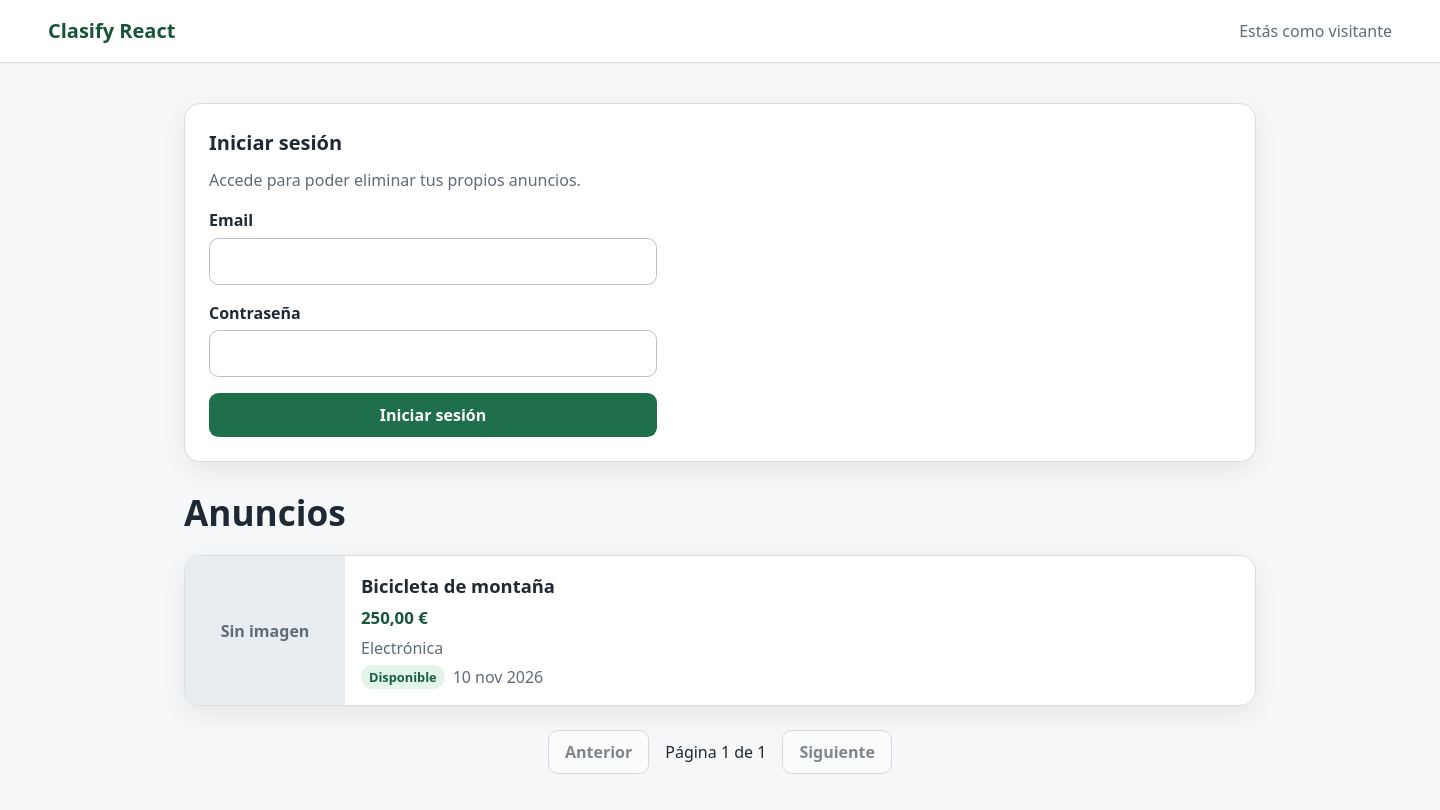
sesión del frontend React › cierra sesión y elimina el token
Check: the heading "Bicicleta de montaña" is shown, box [361,573,555,598]
In the field labelled "Email": point(433, 261) [209,238,657,285], type "ana@example.com"
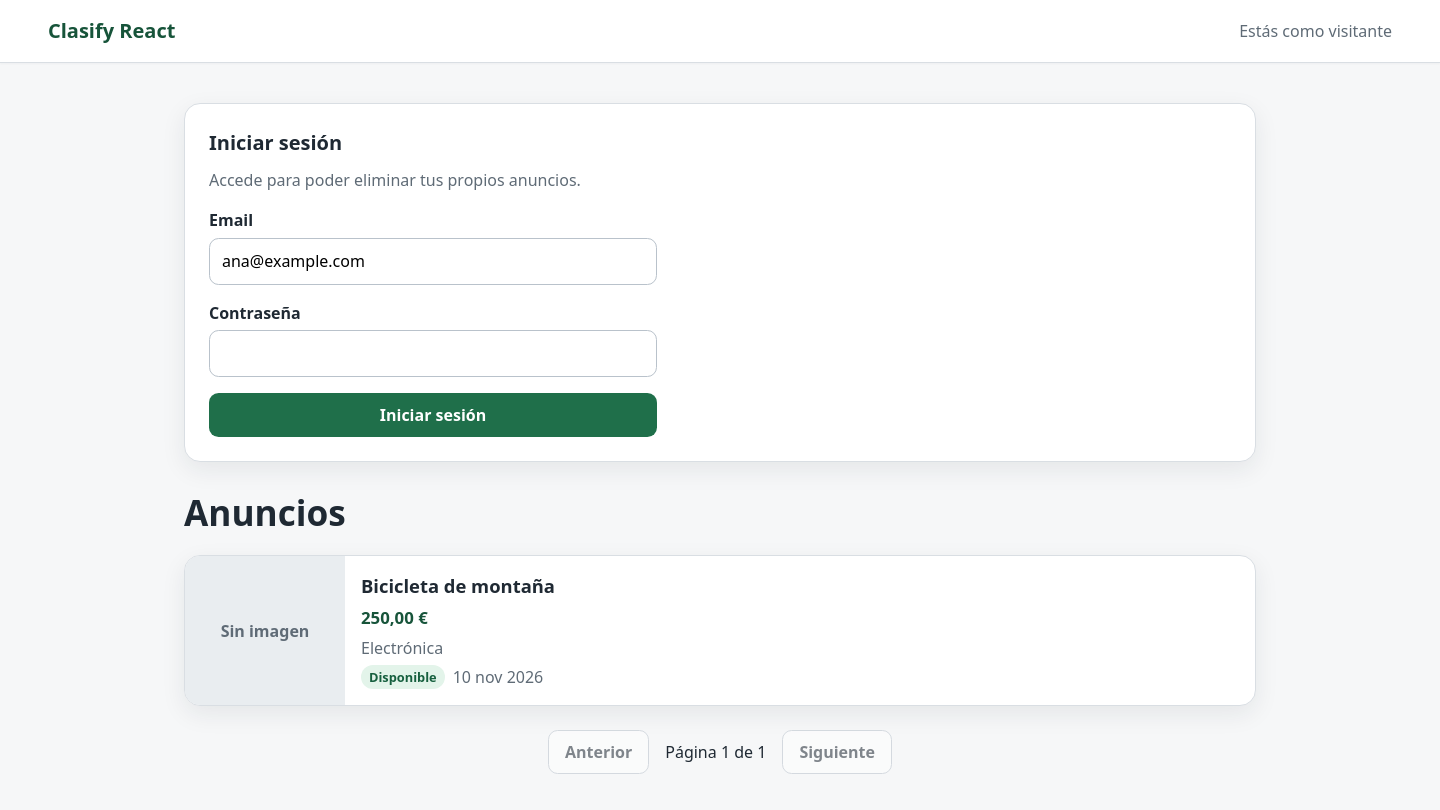
In the password field labelled "Contraseña": point(433, 354) [209,330,657,377], type "Clasify123!"
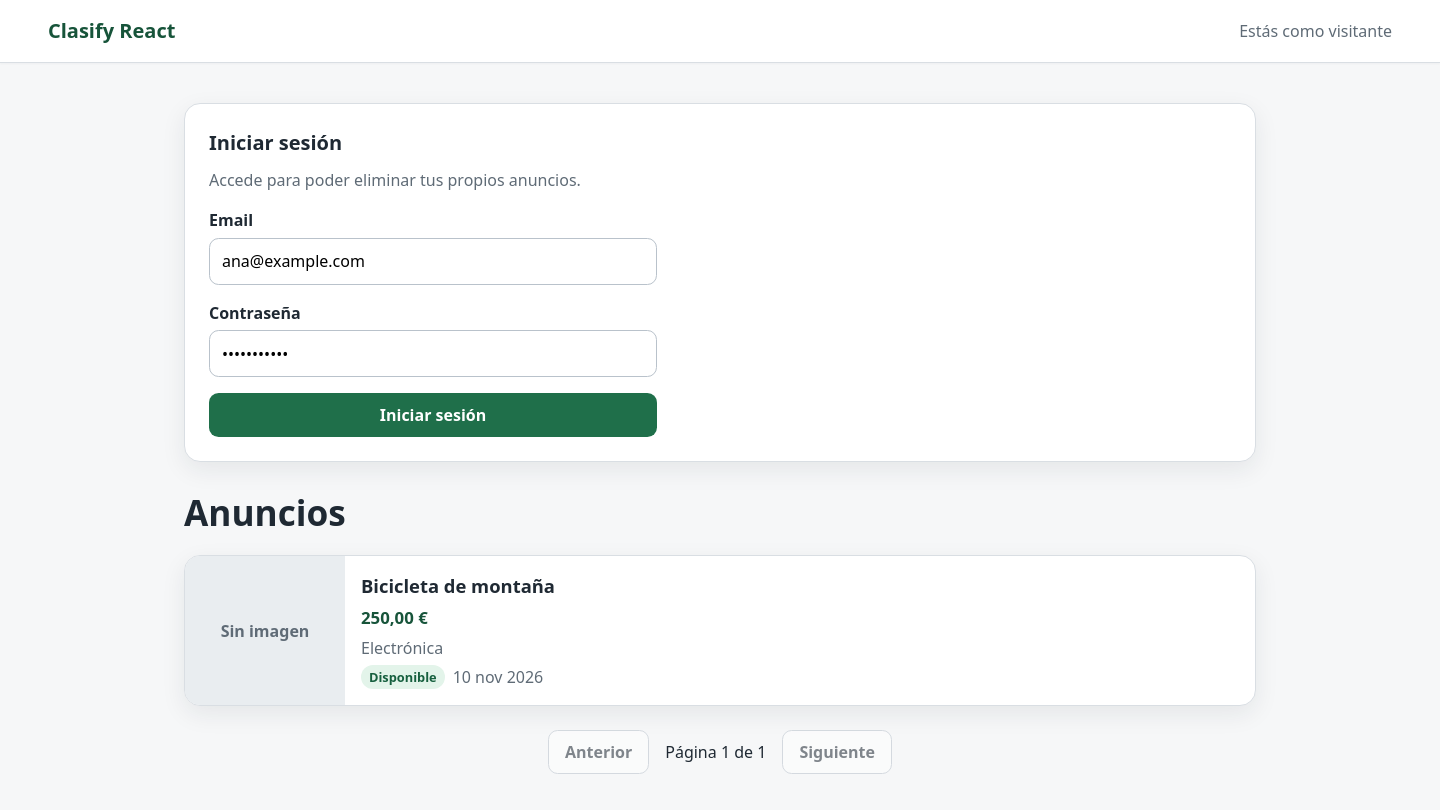
Click the button "Iniciar sesión": point(433, 415) [209,393,657,437]
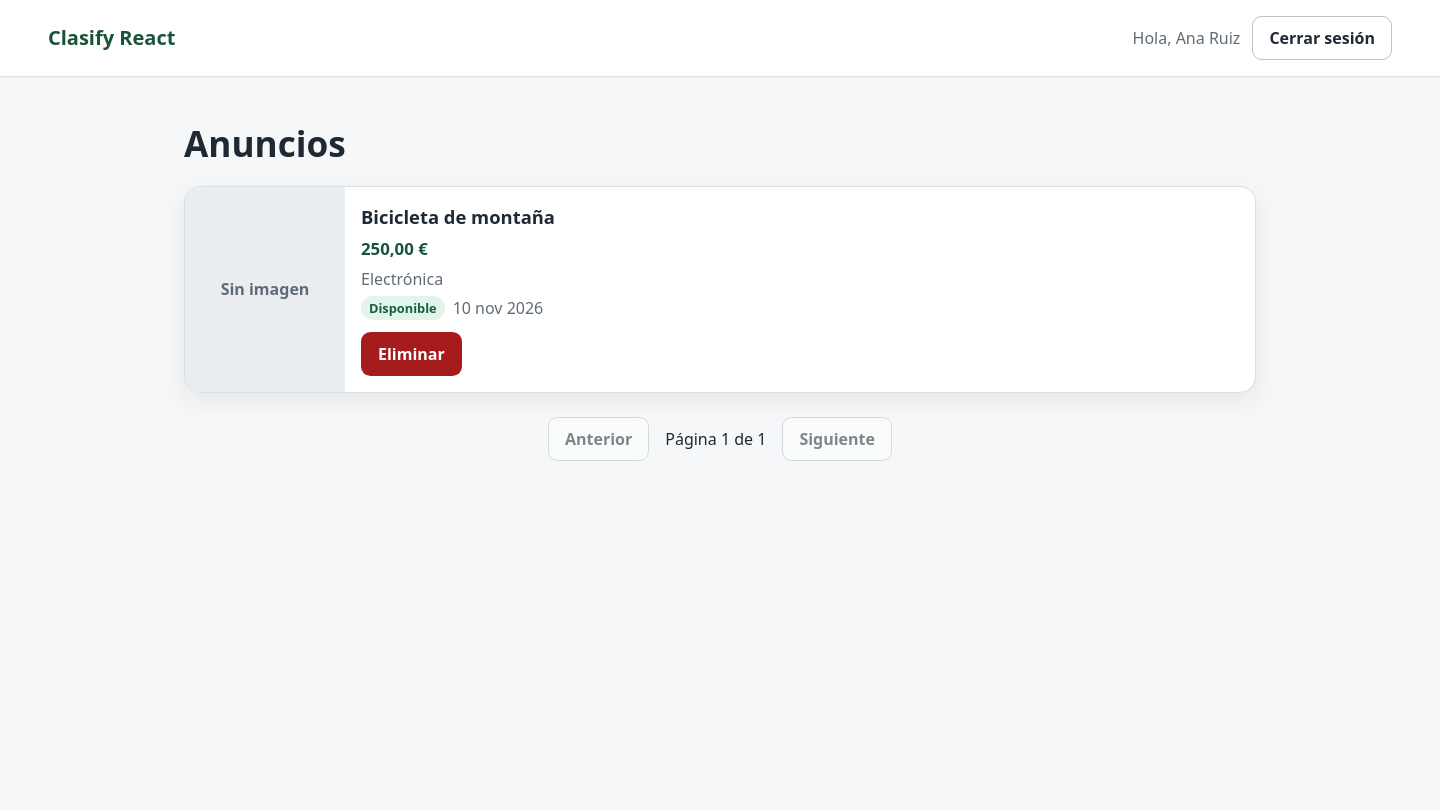
Check: the text "Hola, Ana Ruiz" is shown, box [1132,26,1240,50]
Click the button "Cerrar sesión": point(1322, 38) [1252,16,1392,60]
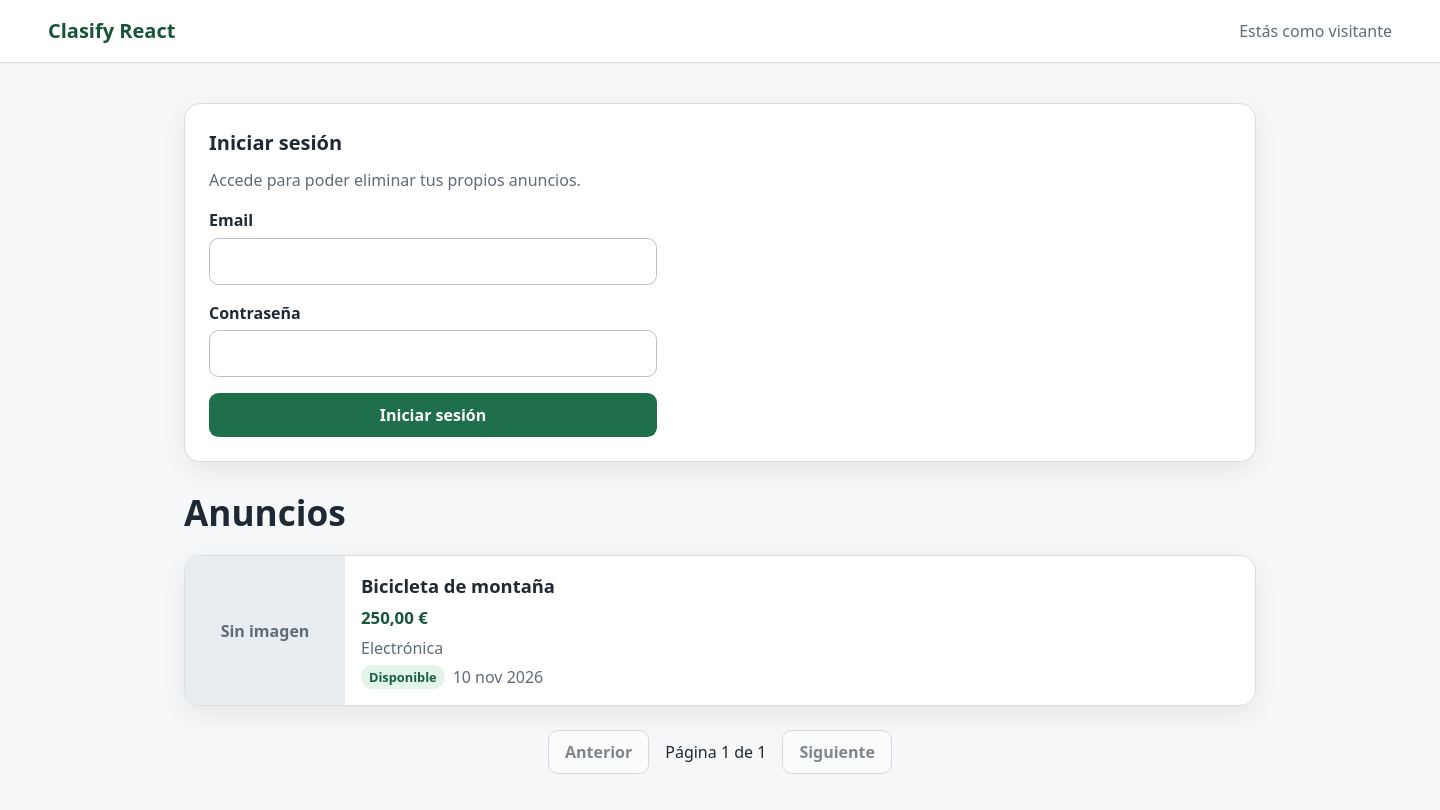
Check: the text "Estás como visitante" is shown, box [1239,19,1392,43]
